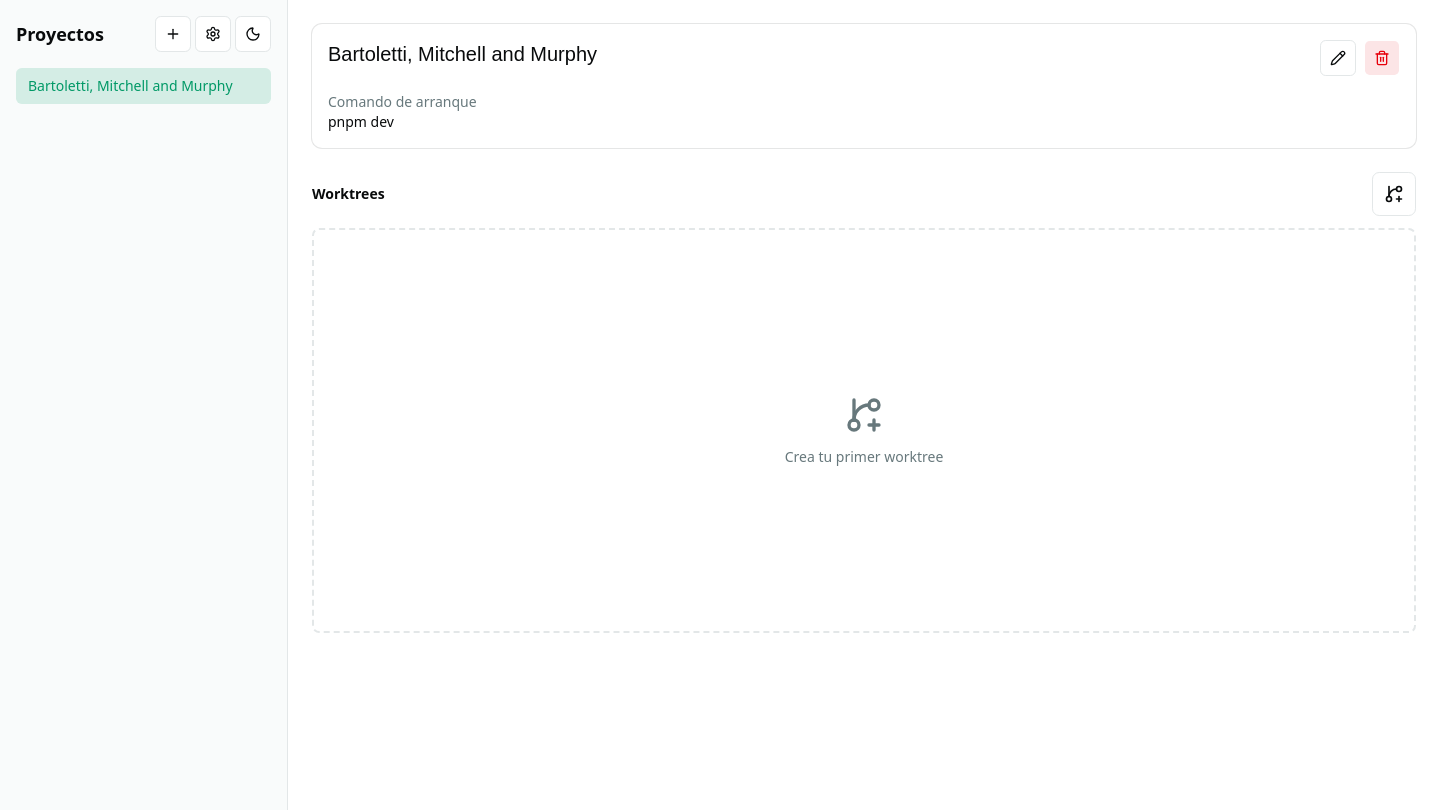
Test: app routes › should navigate back to the empty state when the only project is deleted
Click the button named "Borrar proyecto": coordinates (1382, 58) [1364,40,1400,76]
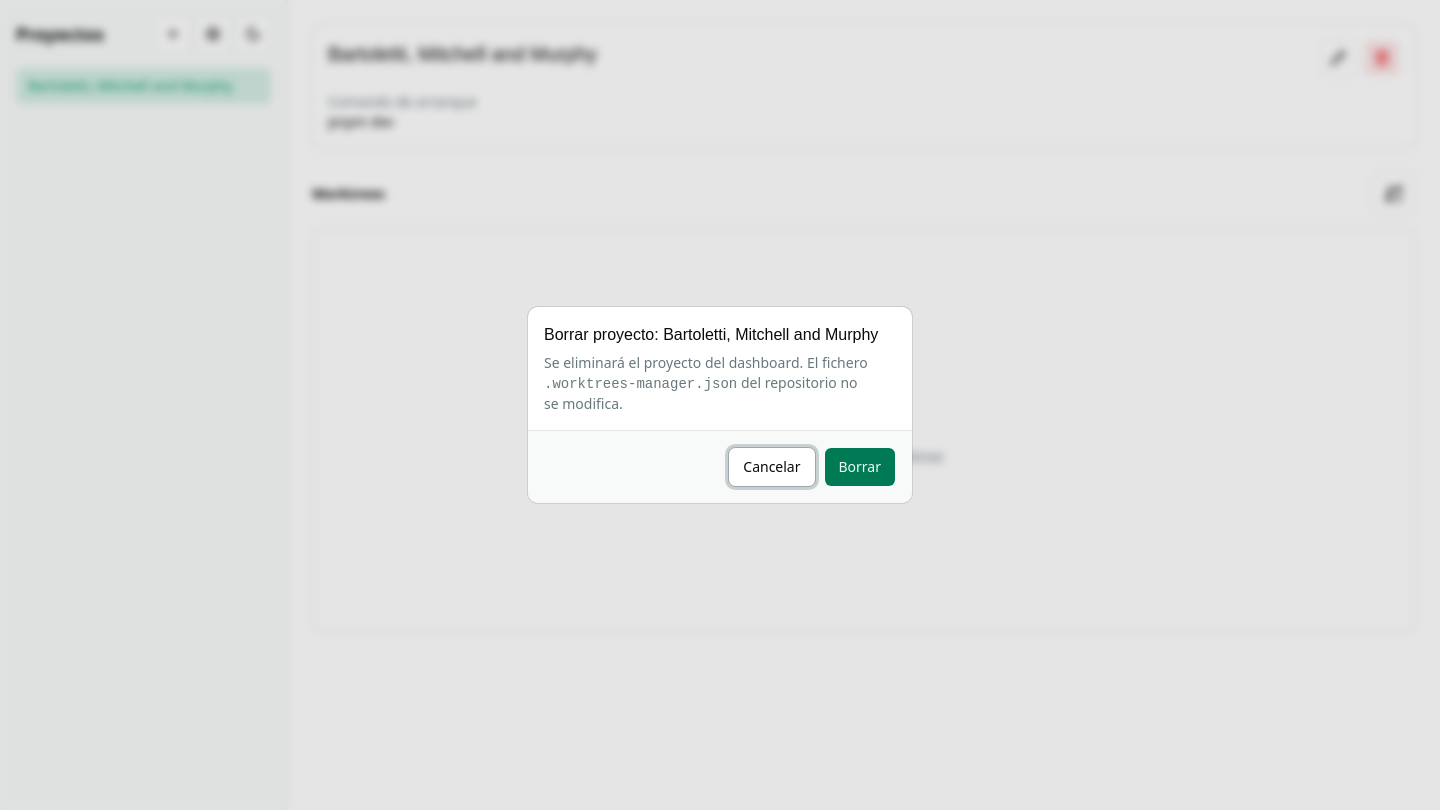
Click the button "Borrar": coordinates (860, 467) [824,447,896,487]
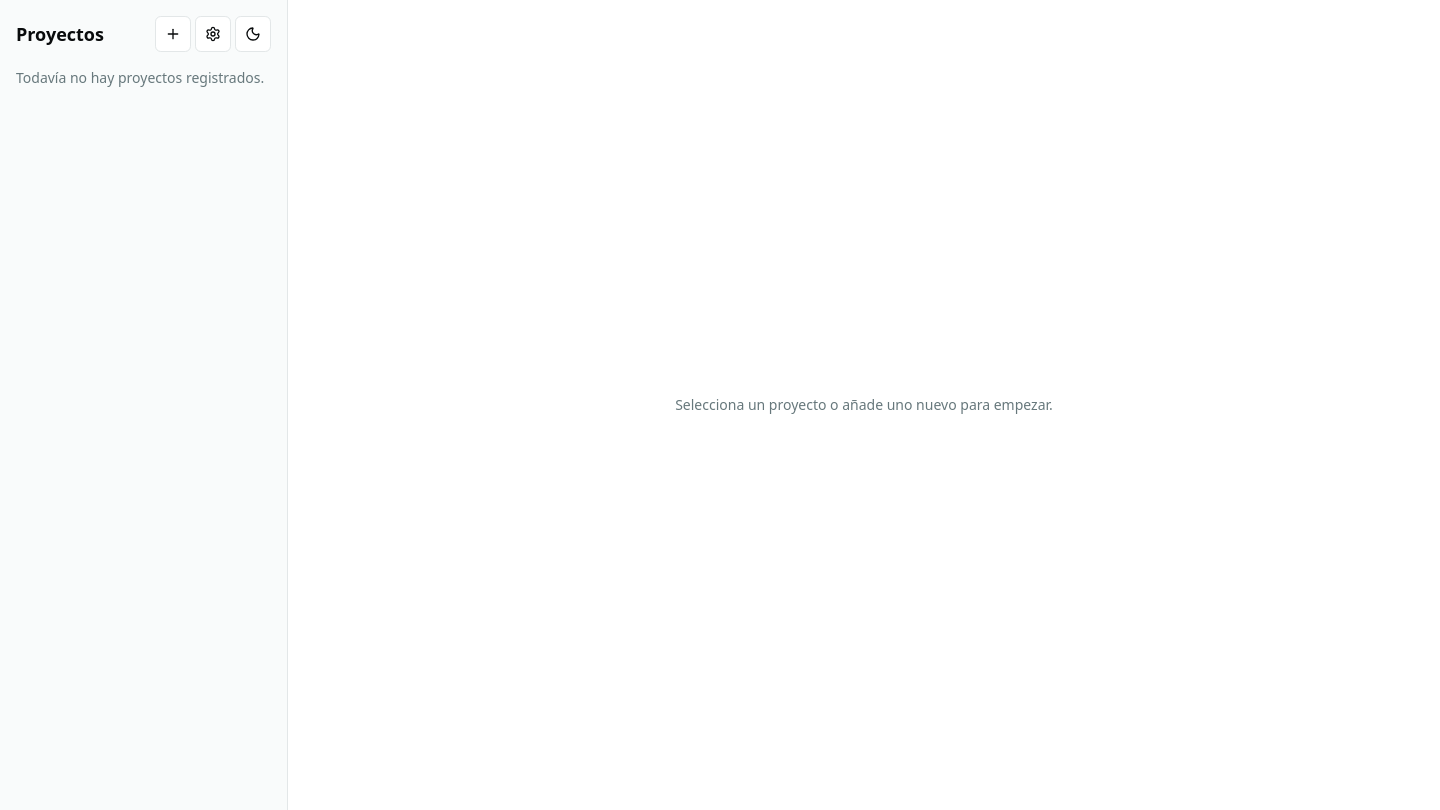
Result: the text "Selecciona un proyecto o añade uno nuevo para empezar." is shown at [675,395,1053,415]
